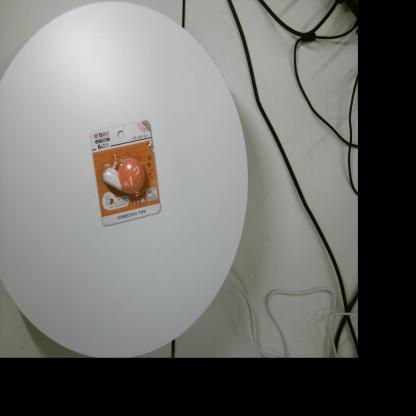Stationery: (90, 120, 161, 226)
